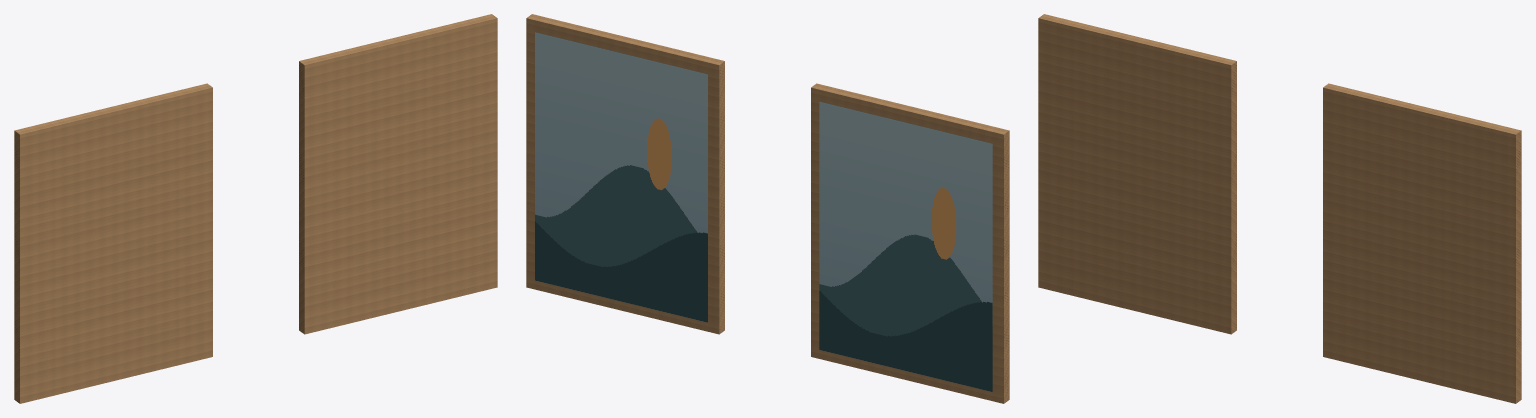
The model's file is framed_wall_art.dae.
3 renders of one model, left to right at view 1: azimuth 30°, elevation 25°; view 2: azimuth 150°, elevation 25°; view 3: azimuth 330°, elevation 25°, orthographic.
Parts seen in each view (by area): view 1: oak; view 2: art, oak; view 3: oak.
Part boxes in pixels (bbox=[...]): oak: bbox=[14, 14, 497, 403]; art: bbox=[535, 32, 992, 392]; oak: bbox=[526, 14, 1009, 403]; oak: bbox=[1038, 14, 1521, 403].
Size of the model in its own units: 1.93 by 0.05 by 1.04.
Materials: 2 (2 with a texture image).
